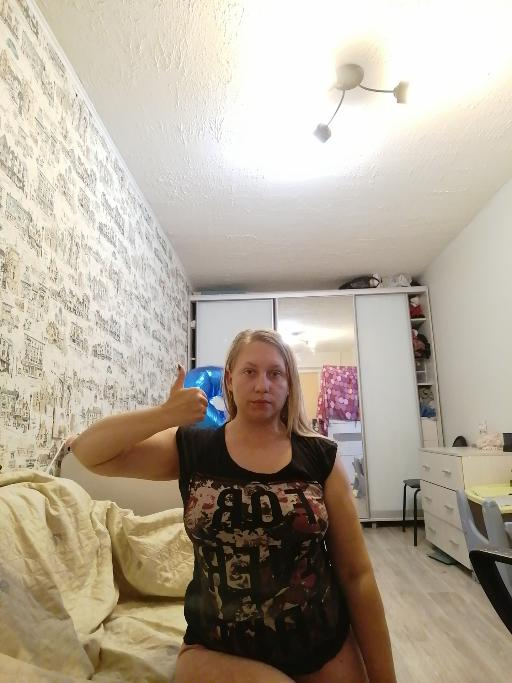like: (161, 363, 209, 429)
